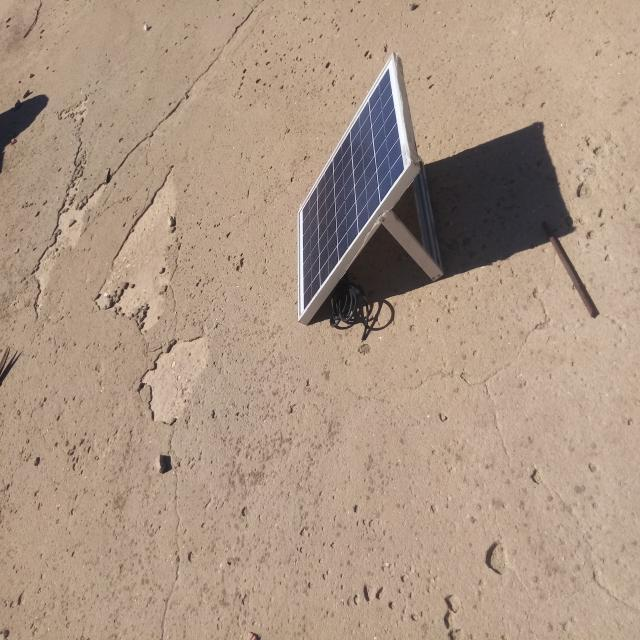no faulty: (298, 52, 412, 320)
